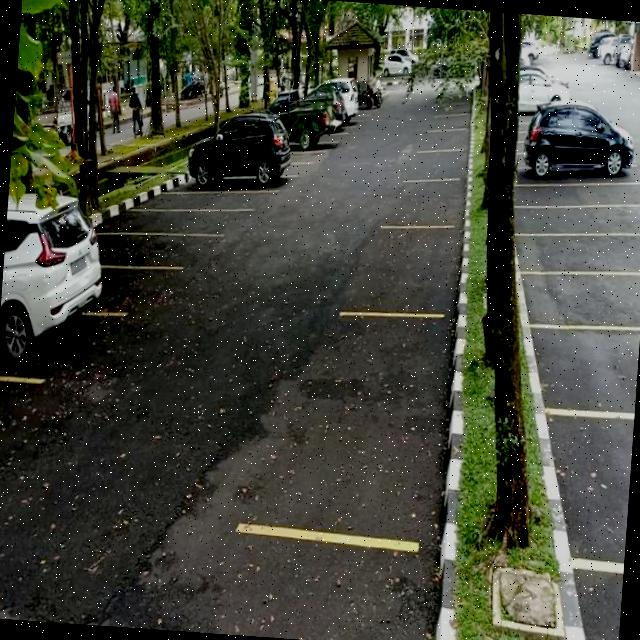empty: (256, 304, 452, 550), (526, 321, 640, 417), (374, 220, 458, 318), (523, 268, 640, 335), (519, 229, 640, 277), (526, 201, 640, 239), (98, 230, 199, 272), (117, 206, 233, 242), (521, 178, 628, 214), (153, 185, 264, 216), (400, 176, 464, 228), (414, 147, 466, 181)
occupied: (0, 268, 110, 391), (515, 129, 640, 194), (177, 133, 296, 199)
